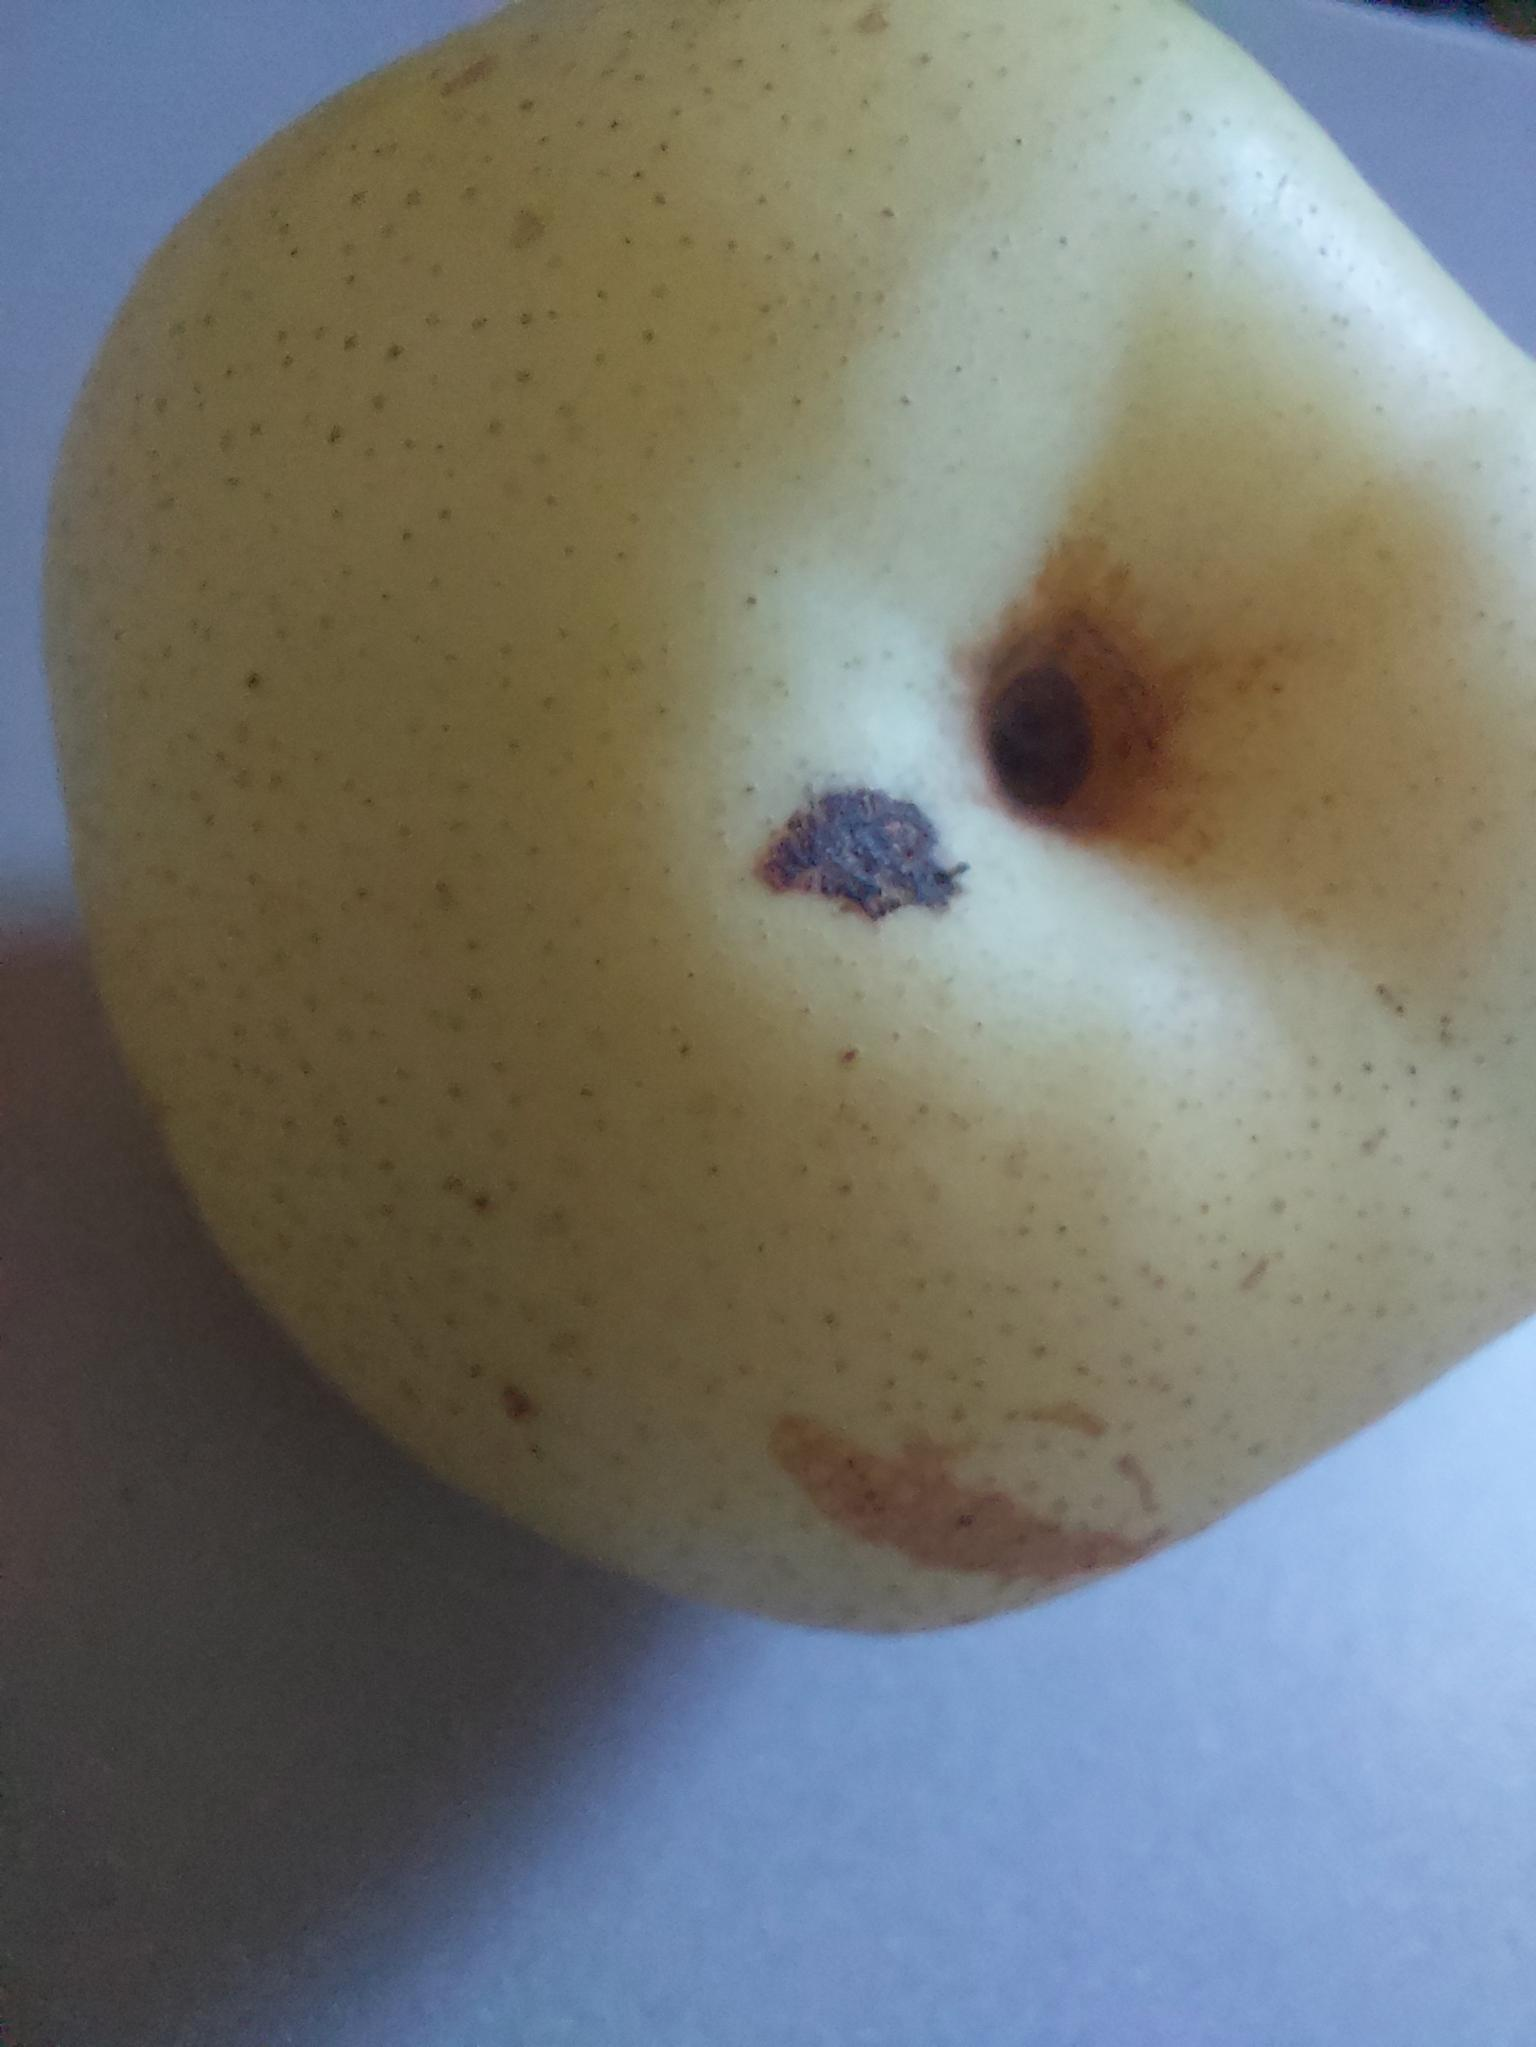Good Pear: (19, 0, 1536, 1644)
